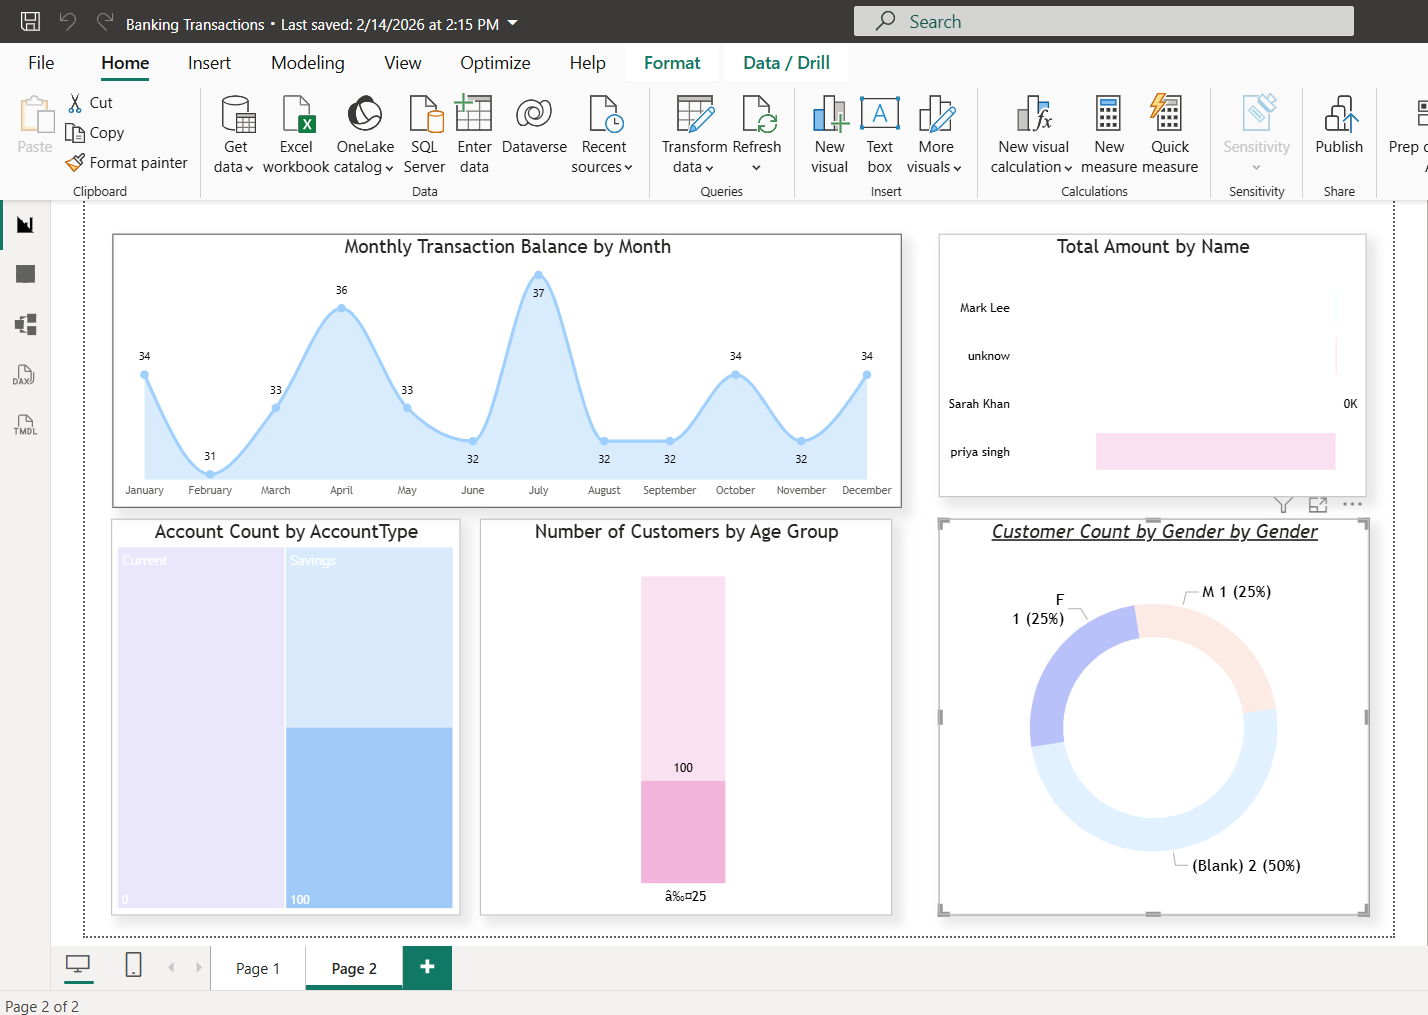

What the dashboard file says about the page in this screenshot:
{"tool":"powerbi","page":{"name":"Page 2","canvas":[1280,720],"ordinal":1},"visuals":[{"type":"donutChart","fields":{"Category":["CombinedBankingDataset.Gender"],"Y":["Measures Table.Customer Count by Gender"]},"box":[834.9,312.1,421.2,387.9],"z":0},{"type":"columnChart","title":"Number of Customers by  Age Group","fields":{"Y":["CountNonNull(CombinedBankingDataset.CustomerID)"],"Category":["CombinedBankingDataset.Customer Age Group"]},"box":[386.4,312.1,403,387.9],"z":1},{"type":"treemap","title":"Account Count by AccountType","fields":{"Values":["Measures Table.Account Count by Type"],"Group":["CombinedBankingDataset.AccountType"]},"box":[25.3,312.2,341.2,388],"z":2},{"type":"barChart","title":"Total Amount by Name","fields":{"Category":["CombinedBankingDataset.Name"],"Y":["Sum(CombinedBankingDataset.Balance)"]},"box":[835.4,32.9,418.3,257.8],"z":3},{"type":"areaChart","fields":{"Category":["CombinedBankingDataset.TransactionDate.Variation.Date Hierarchy.Month"],"Y":["Measures Table.Monthly Transaction Balance"]},"box":[26.5,32.9,772.2,267.9],"z":4}]}

Visuals, with their boxes in screenshot pixels (x1, y1, x2, y2):
donutChart - CombinedBankingDataset.Gender x Measures Table.Customer Count by Gender: x1=938, y1=532, x2=1385, y2=944
"Number of Customers by  Age Group" columnChart: x1=462, y1=532, x2=890, y2=944
"Account Count by AccountType" treemap: x1=79, y1=532, x2=441, y2=944
"Total Amount by Name" barChart: x1=939, y1=236, x2=1382, y2=509
areaChart - CombinedBankingDataset.TransactionDate.Variation.Date Hierarchy.Month x Measures Table.Monthly Transaction Balance: x1=80, y1=236, x2=900, y2=520
